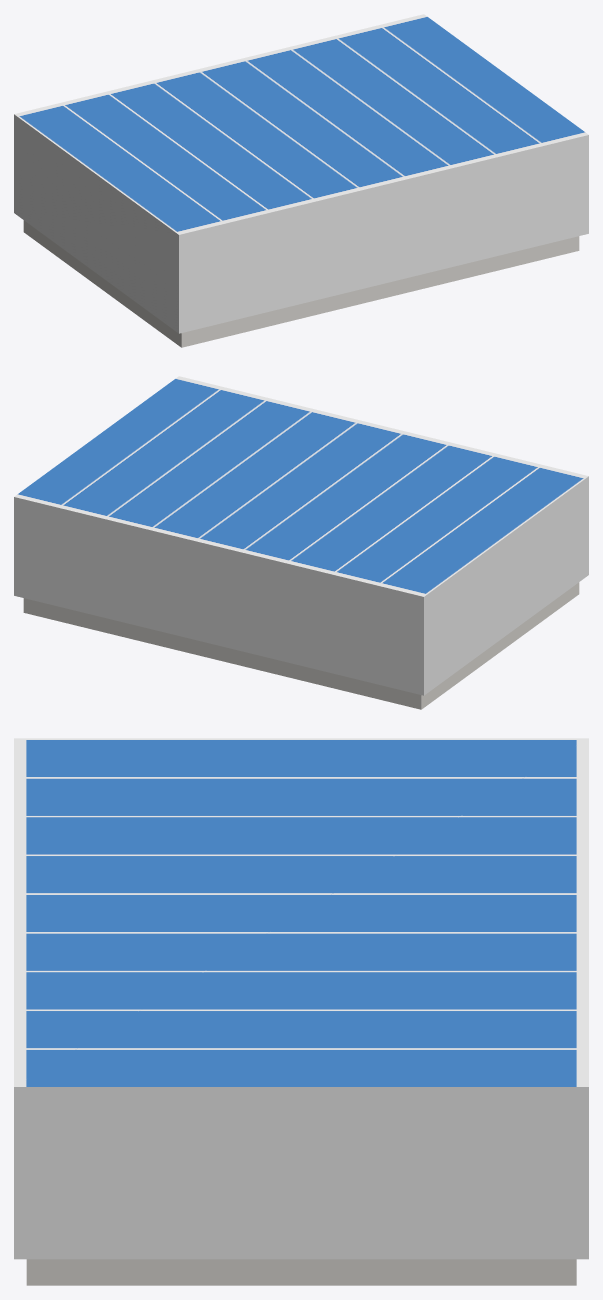
File: cmp_off.glb
3 views of the same model, one above another, from view 1: azimuth 30°, elevation 25°; view 2: azimuth 150°, elevation 25°; view 3: azimuth 270°, elevation 25° (orthographic). The views are drawn at different scales.
Visible parts, largest first — view 1: lid_top, lid_front, lid_left, base_front, base_left; view 2: lid_top, lid_back, lid_left, base_back, base_left; view 3: lid_top, lid_right, base_right.
Boxes of the visible parts, x1,y1,x2,y2 form: lid_top: (14, 14, 588, 234); lid_front: (179, 135, 588, 333); lid_left: (14, 114, 178, 333); base_front: (181, 236, 579, 347); base_left: (23, 220, 181, 347); lid_top: (14, 376, 588, 596); lid_back: (14, 497, 423, 695); lid_left: (424, 476, 588, 695); base_back: (23, 598, 421, 709); base_left: (421, 582, 579, 709); lid_top: (14, 738, 588, 1086); lid_right: (14, 1087, 588, 1259); base_right: (26, 1259, 576, 1285).
Bounding box in the file's own units: 0.165 × 0.045 × 0.115.
14 materials, 1 textured.
